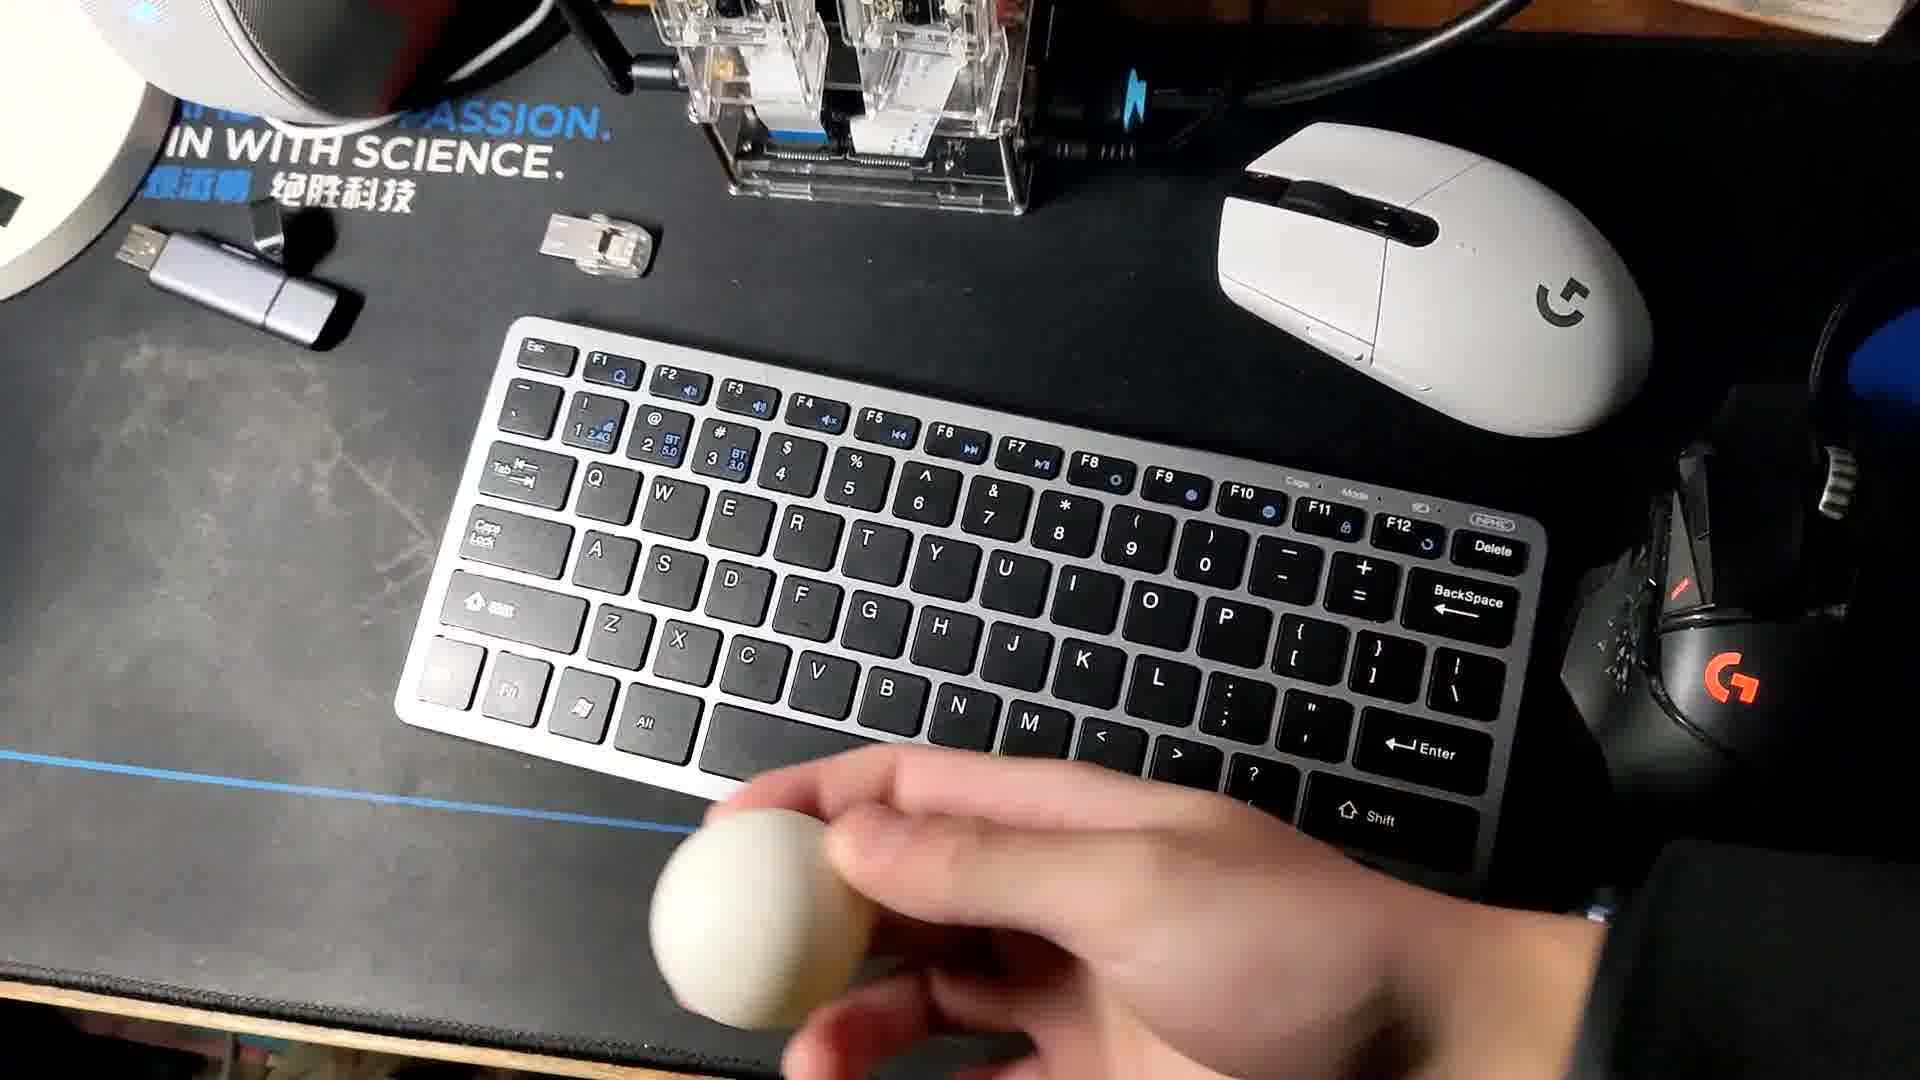Ball: (655, 800, 870, 1029)
